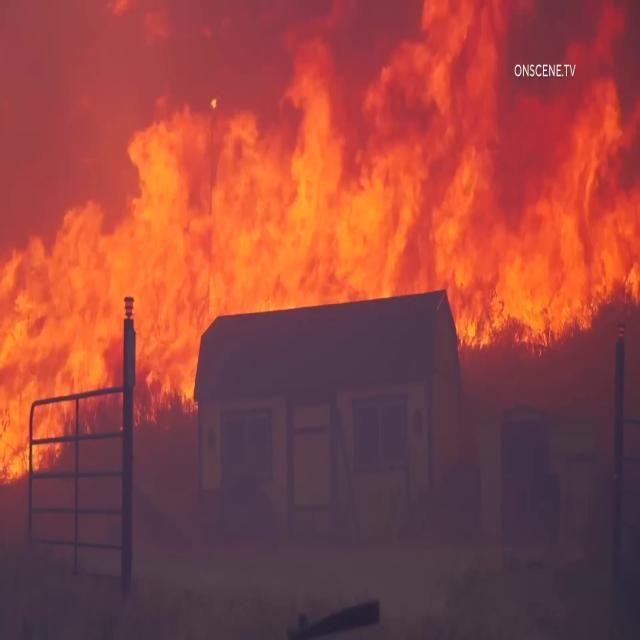fire: (0, 1, 488, 303), (0, 95, 189, 384), (502, 74, 640, 336)
